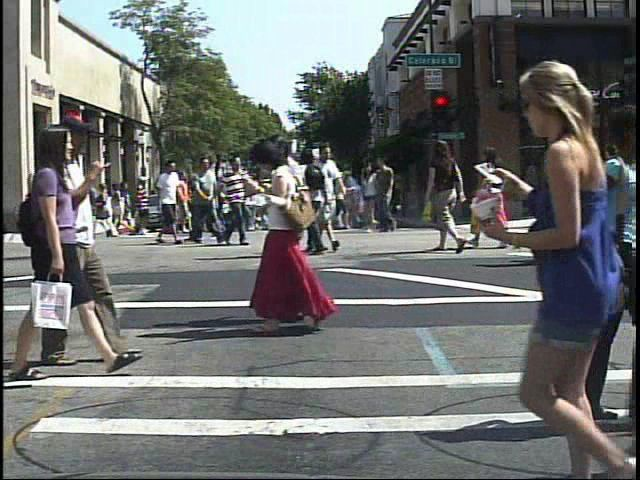person: (476, 55, 630, 480), (5, 115, 112, 382), (62, 108, 128, 370), (244, 135, 330, 335), (275, 130, 340, 330), (573, 132, 619, 282), (543, 120, 583, 269), (421, 134, 469, 256), (255, 135, 300, 263), (470, 142, 515, 256), (299, 150, 344, 261), (306, 141, 348, 251), (217, 151, 254, 246), (189, 154, 225, 249), (577, 147, 610, 244), (152, 157, 185, 245), (133, 172, 153, 241), (72, 182, 92, 232)
